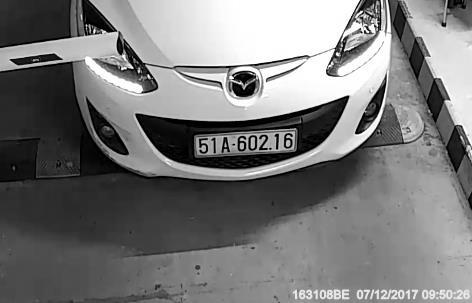License-plate: (185, 125, 313, 163)
